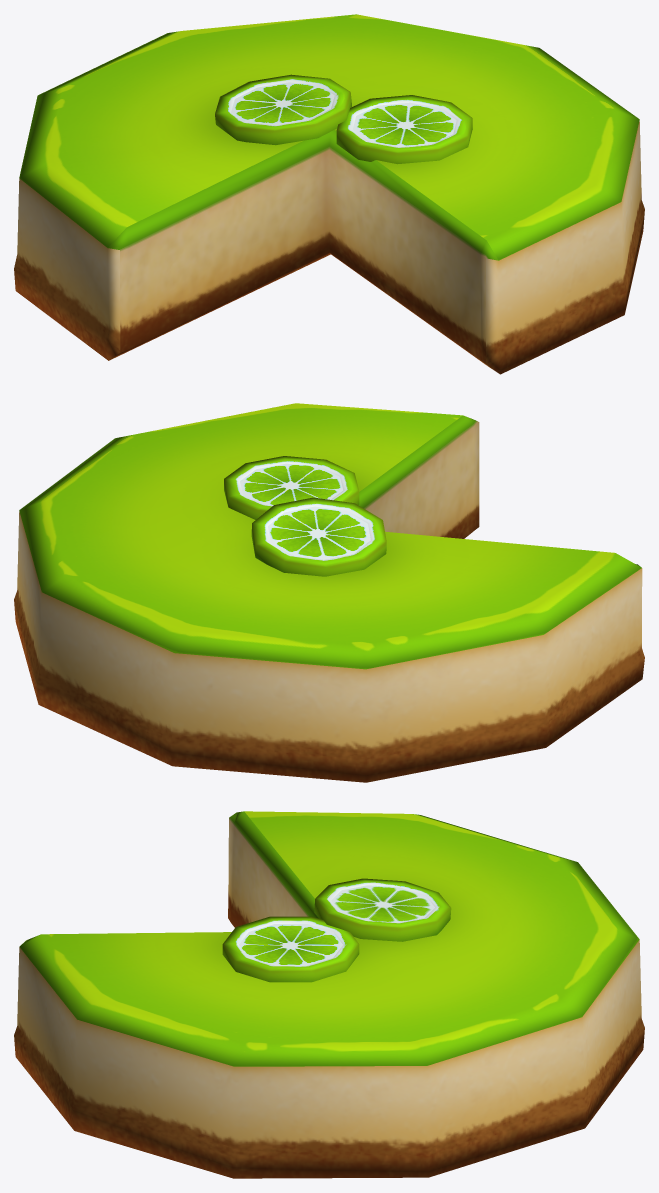
File: KeyLime_Cheesecake_Cut.fbx
3 renders of one model, top to bottom at view 1: azimuth 30°, elevation 25°; view 2: azimuth 150°, elevation 25°; view 3: azimuth 270°, elevation 25°, orthographic.
Visible parts, largest first — view 1: KeyLime_Cheesecake_Cut; view 2: KeyLime_Cheesecake_Cut; view 3: KeyLime_Cheesecake_Cut.
Boxes of the visible parts, x1=… form: KeyLime_Cheesecake_Cut: x1=14, y1=14, x2=644, y2=374; KeyLime_Cheesecake_Cut: x1=14, y1=403, x2=644, y2=782; KeyLime_Cheesecake_Cut: x1=14, y1=811, x2=644, y2=1178.
Bounding box in the file's own units: 79.53 × 20.94 × 82.4.
